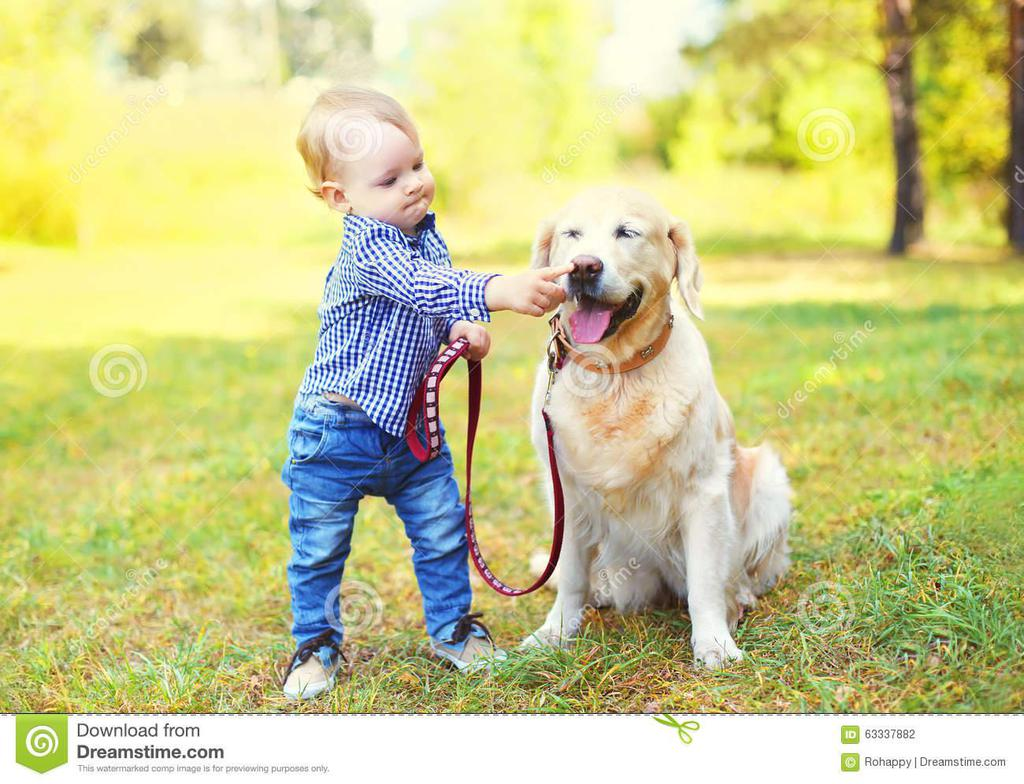child: (235, 85, 552, 683)
